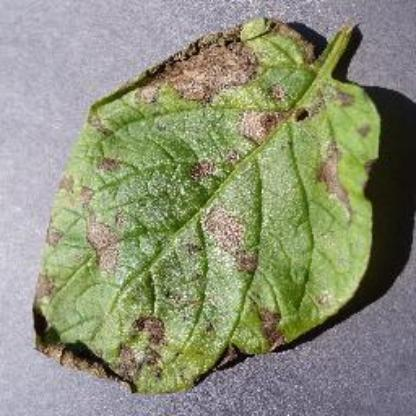Early-Blight: (32, 14, 380, 393)
